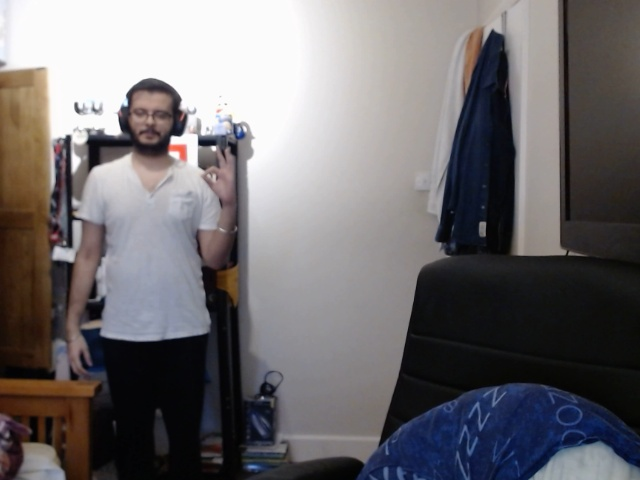Okay: (201, 143, 243, 215)
